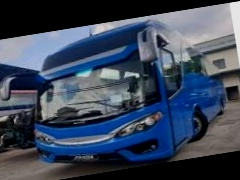bus: (9, 8, 231, 178)
